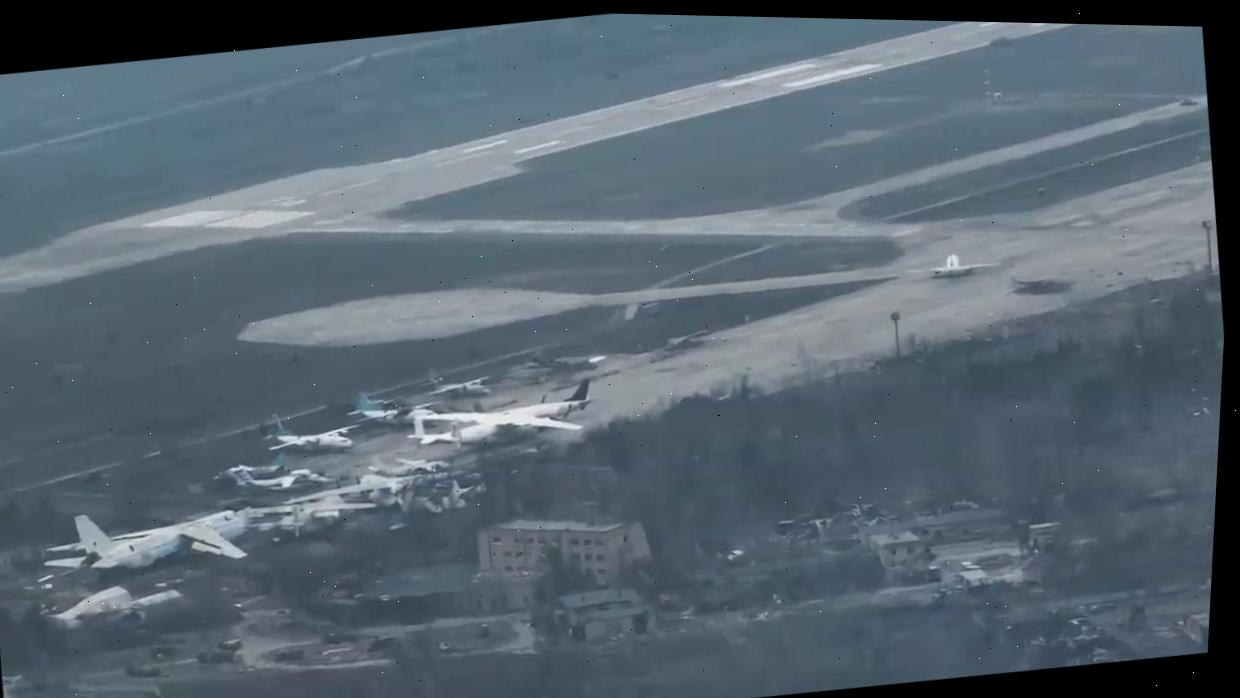plane: (35, 491, 254, 583), (400, 393, 585, 459), (280, 459, 470, 515), (236, 486, 380, 544), (259, 402, 365, 463), (343, 379, 443, 431), (226, 455, 330, 496), (902, 245, 1002, 283), (422, 360, 493, 402)
